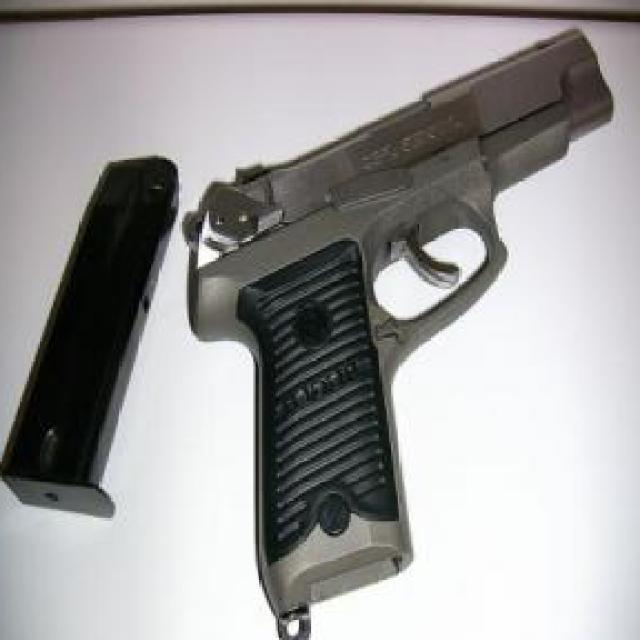pistol: (185, 26, 616, 614)
